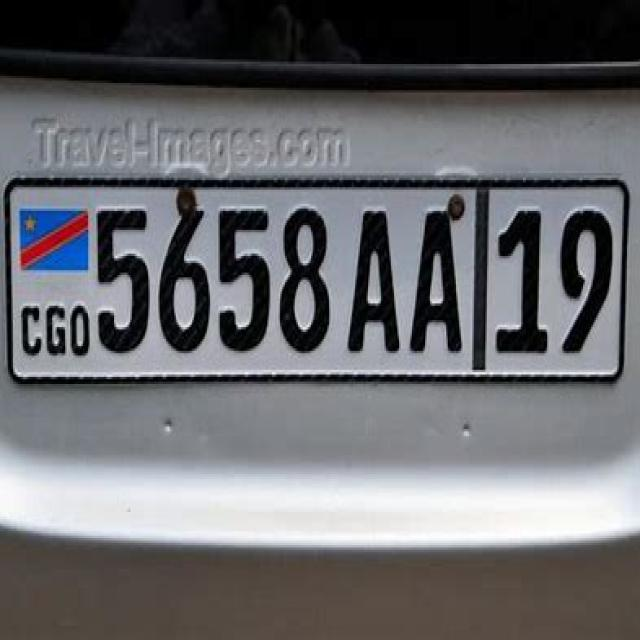Plaque: (9, 186, 625, 369)
